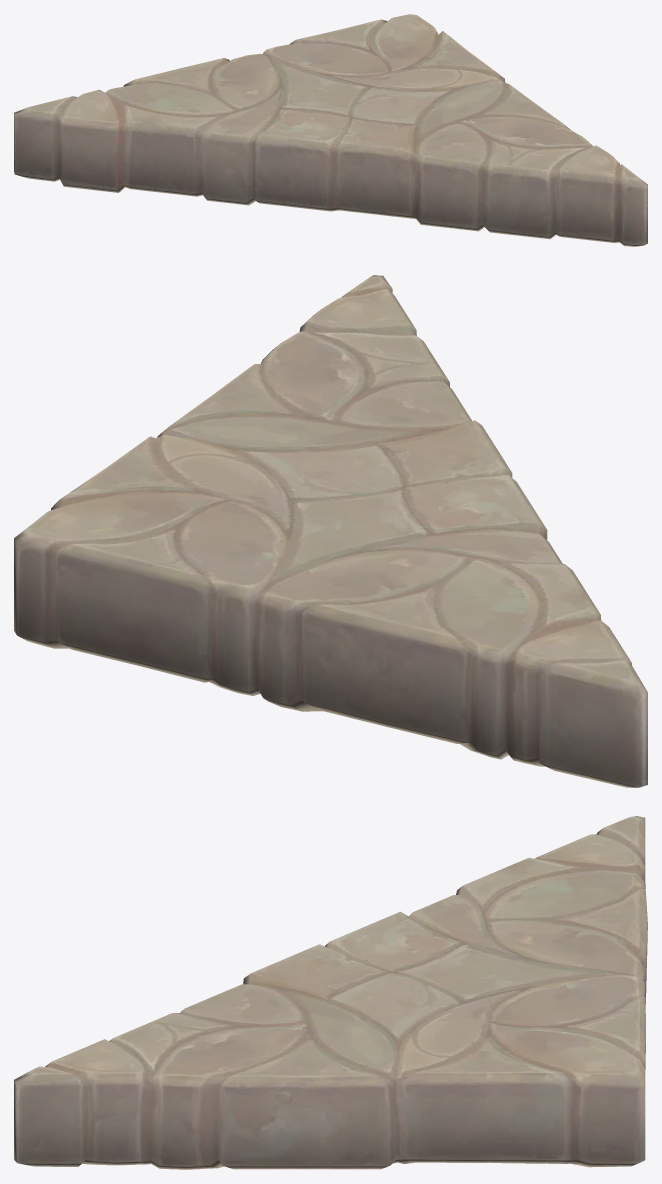
3 renders of one model, top to bottom at view 1: azimuth 30°, elevation 25°; view 2: azimuth 150°, elevation 25°; view 3: azimuth 270°, elevation 25°, orthographic. The views are drawn at different scales.
Size of the model in its own units: 4.96 by 0.8595 by 4.95.
Materials: 1 (1 with a texture image).
